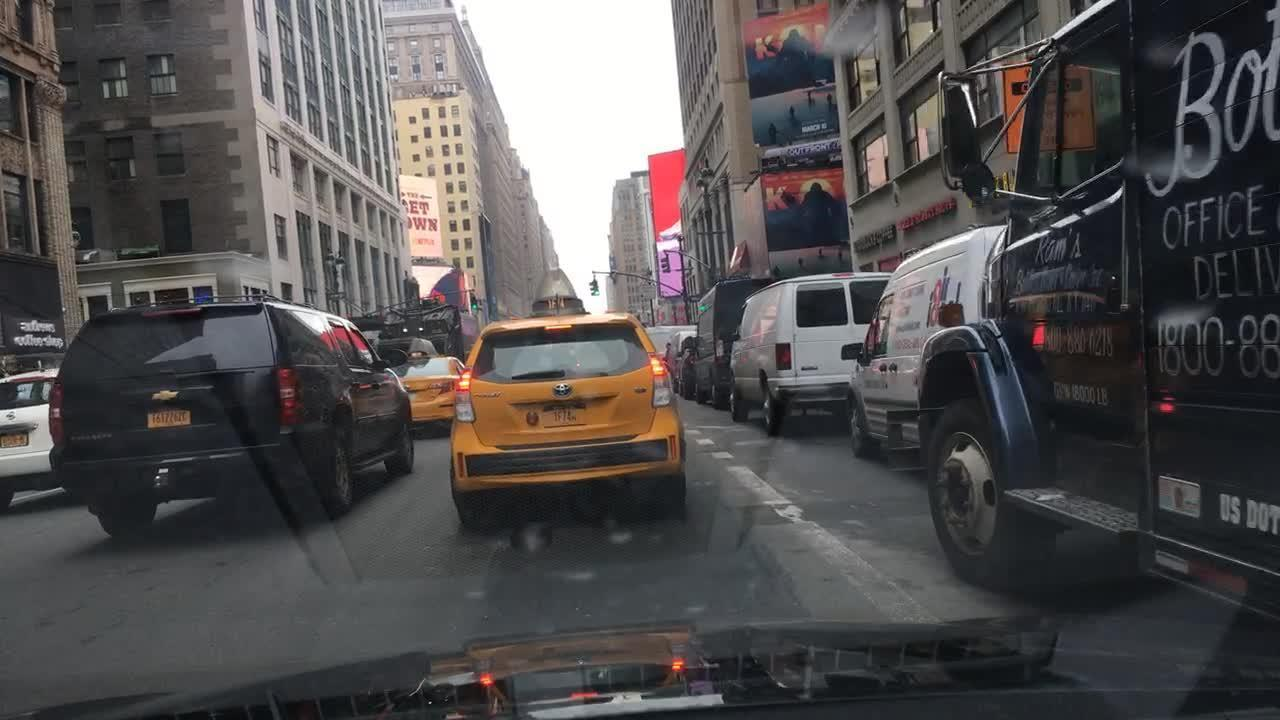Toyota: (549, 378, 577, 401)
chevrolet: (150, 387, 182, 403)
